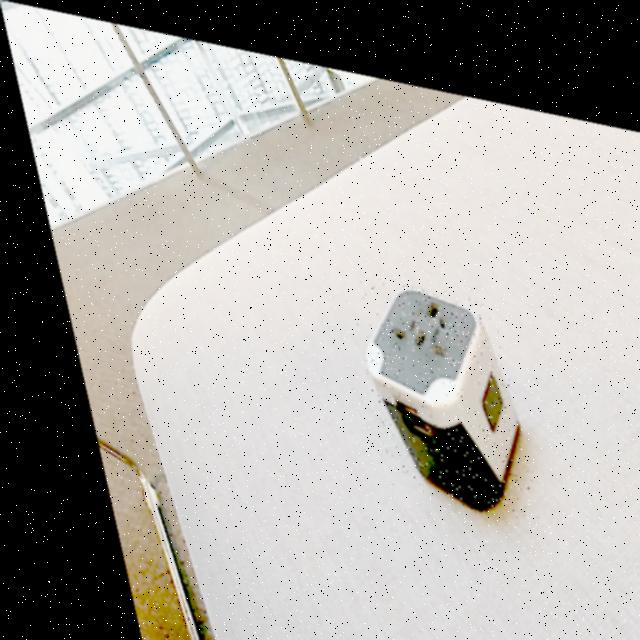adapter: (335, 258, 522, 504)
